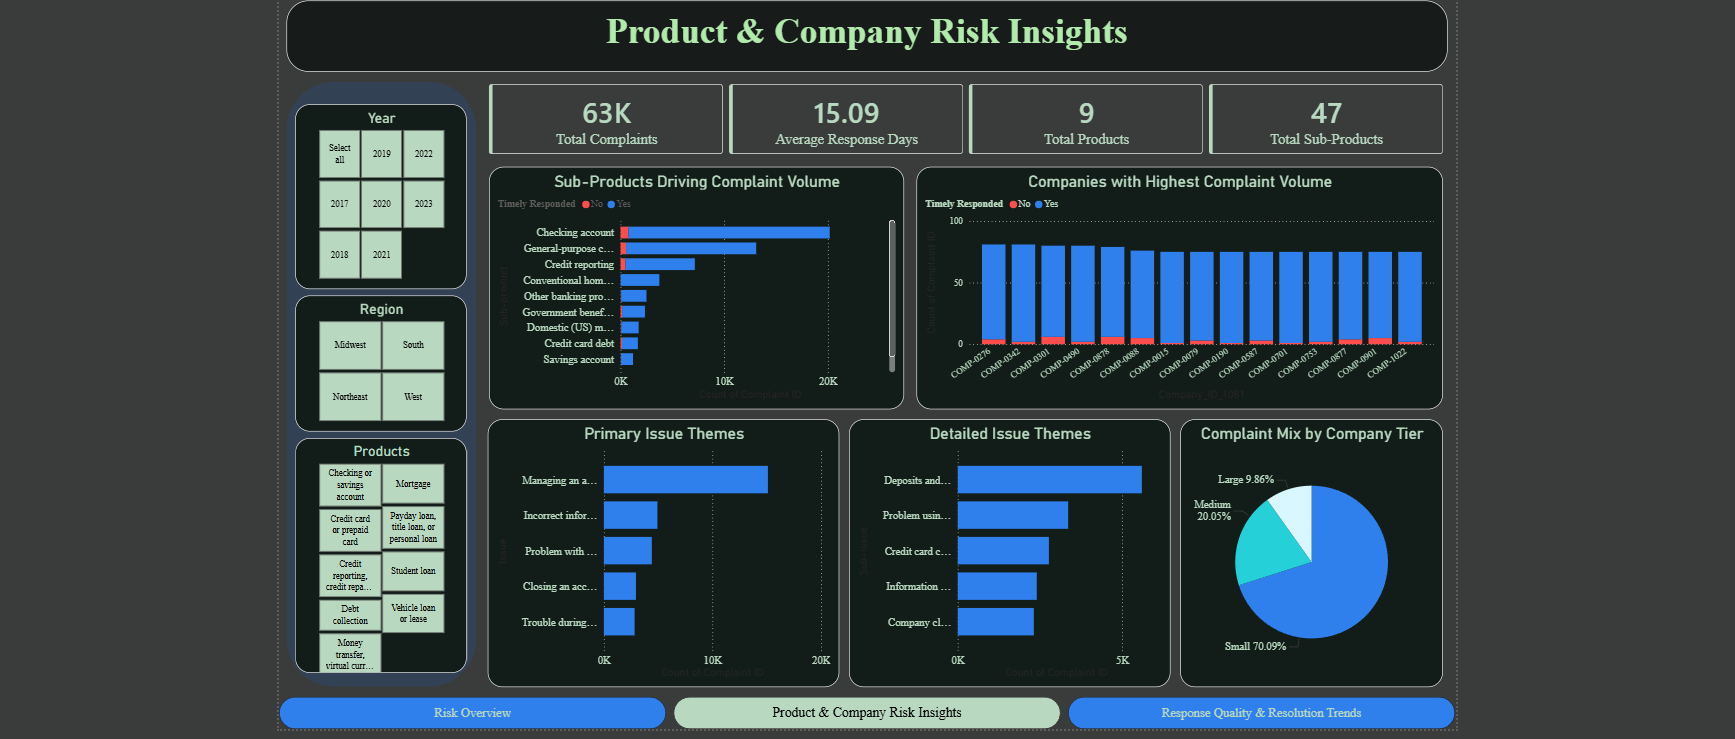

This screenshot's page, from the dashboard's own definition file:
{"tool":"powerbi","page":{"name":"Product & Company Risk Insights","canvas":[1600,1000],"ordinal":1},"visuals":[{"type":"textbox","box":[10.2,10.2,1577.8,96.8],"z":0},{"type":"cardVisual","fields":{"Data":["cleaned_financial_complaints.Total Complaints","cleaned_financial_complaints.Average Response Time","cleaned_financial_complaints.Total Products","cleaned_financial_complaints.Total Sub-Products"]},"box":[268.3,107,1331.5,129.1],"z":1000},{"type":"pageNavigator","box":[0,956.2,1599.9,44.2],"z":2000},{"type":"shape","box":[10.2,120.6,258.2,822],"z":3000},{"type":"slicer","title":"Year","fields":{"Values":["cleaned_financial_complaints.Date submitted.Variation.Date Hierarchy.Year"]},"box":[21.5,150.5,233,250.9],"z":4000},{"type":"slicer","title":"Region","fields":{"Values":["cleaned_financial_complaints.Census_Region"]},"box":[21.5,410.4,233,184.6],"z":5000},{"type":"columnChart","title":"Companies with Highest Complaint Volume","fields":{"Category":["cleaned_financial_complaints.Company_ID_1081"],"Y":["CountNonNull(cleaned_financial_complaints.Complaint ID)"],"Series":["cleaned_financial_complaints.Timely response?"]},"box":[866.2,236.1,715,329.5],"z":6000},{"type":"barChart","title":"Primary Issue Themes","fields":{"Category":["cleaned_financial_complaints.Issue"],"Y":["CountNonNull(cleaned_financial_complaints.Complaint ID)"]},"box":[284.2,579,477.8,364.1],"z":7000},{"type":"barChart","title":"Detailed Issue Themes","fields":{"Category":["cleaned_financial_complaints.Sub-issue"],"Y":["CountNonNull(cleaned_financial_complaints.Complaint ID)"]},"box":[774.4,579,436.9,364.1],"z":8000},{"type":"slicer","title":"Products","fields":{"Values":["cleaned_financial_complaints.Product"]},"box":[21.5,603.9,233,319],"z":9000},{"type":"pieChart","title":"Complaint Mix by Company Tier","fields":{"Category":["cleaned_financial_complaints.Company_Size_Tier"],"Y":["CountNonNull(cleaned_financial_complaints.Complaint ID)"]},"box":[1223.8,579,357,364.1],"z":10000},{"type":"barChart","title":"Sub-Products Driving Complaint Volume","fields":{"Category":["cleaned_financial_complaints.Sub-product"],"Y":["CountNonNull(cleaned_financial_complaints.Complaint ID)"],"Series":["cleaned_financial_complaints.Timely response?"]},"box":[285.3,236.1,563.9,329.5],"z":11000}]}

Visuals, with their boxes on the page's 1600x1000 design canvas (x1, y1, x2, y2). These are canvas units, not pixel positions in the 1735x739 screenshot, which may show the page scaled, cropped or inside an application window:
textbox: {"left": 10, "top": 10, "right": 1588, "bottom": 107}
cardVisual - cleaned_financial_complaints.Total Complaints x cleaned_financial_complaints.Average Response Time: {"left": 268, "top": 107, "right": 1600, "bottom": 236}
pageNavigator: {"left": 0, "top": 956, "right": 1600, "bottom": 1000}
shape: {"left": 10, "top": 121, "right": 268, "bottom": 943}
"Year" slicer: {"left": 22, "top": 150, "right": 254, "bottom": 401}
"Region" slicer: {"left": 22, "top": 410, "right": 254, "bottom": 595}
"Companies with Highest Complaint Volume" columnChart: {"left": 866, "top": 236, "right": 1581, "bottom": 566}
"Primary Issue Themes" barChart: {"left": 284, "top": 579, "right": 762, "bottom": 943}
"Detailed Issue Themes" barChart: {"left": 774, "top": 579, "right": 1211, "bottom": 943}
"Products" slicer: {"left": 22, "top": 604, "right": 254, "bottom": 923}
"Complaint Mix by Company Tier" pieChart: {"left": 1224, "top": 579, "right": 1581, "bottom": 943}
"Sub-Products Driving Complaint Volume" barChart: {"left": 285, "top": 236, "right": 849, "bottom": 566}
